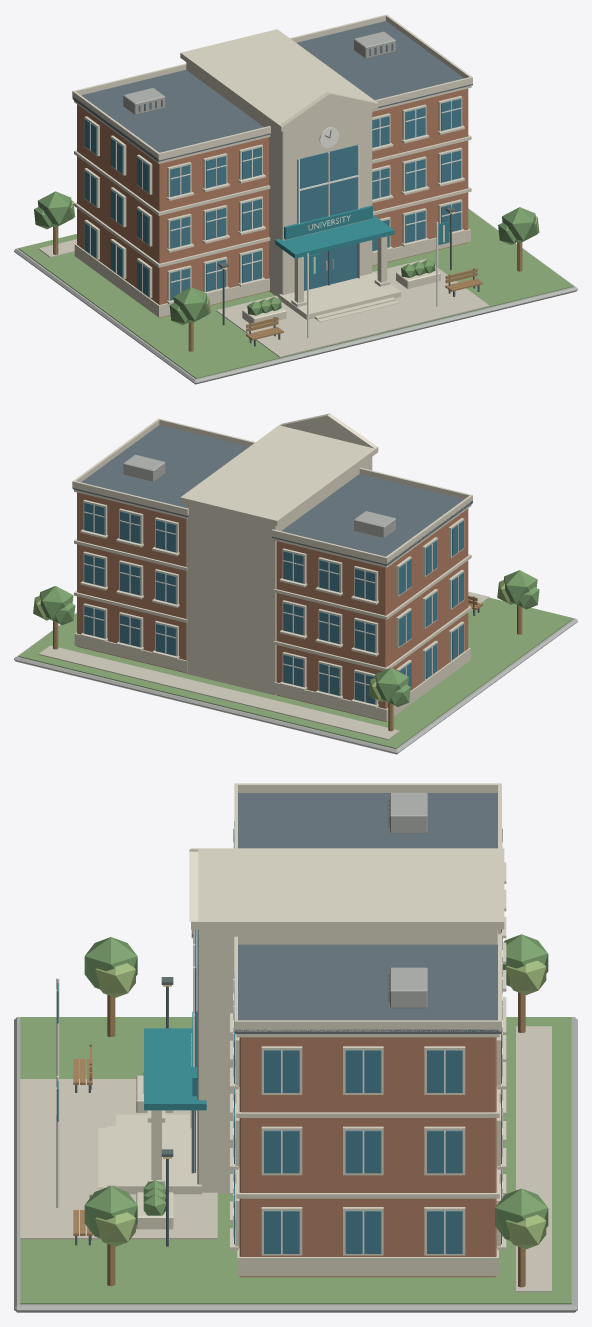
The model's file is University.fbx.
3 views of the same model, one above another, from view 1: azimuth 30°, elevation 25°; view 2: azimuth 150°, elevation 25°; view 3: azimuth 270°, elevation 25° (orthographic). The views are drawn at different scales.
Parts seen in each view (by area): view 1: Campus Lawn, Academic Wing, Central Top Cornice, Central Entrance Pavilion, Wing Roof, Entrance Plaza, Academic Wing.001, Wing Roof.001, Central Upper Glass, Campus Plot, Entrance Landing, Entrance Canopy (+36 smaller); view 2: Central Entrance Pavilion, Academic Wing, Campus Lawn, Central Top Cornice, Academic Wing.001, Wing Roof, Wing Roof.001, Rear Walk, Campus Plot, Wing Stone Plinth, Wing Stone Plinth.001, Entrance Pediment (+34 smaller); view 3: Campus Lawn, Academic Wing.001, Central Top Cornice, Wing Roof.001, Entrance Plaza, Central Entrance Pavilion, Wing Roof, Campus Plot, Rear Walk, Wing Stone Plinth.001, Entrance Landing, Entrance Canopy (+27 smaller).
Boxes of the visible parts, bbox=[...] form: Campus Lawn: bbox=[18, 209, 573, 378]; Academic Wing: bbox=[77, 104, 268, 317]; Central Top Cornice: bbox=[180, 29, 378, 131]; Central Entrance Pavilion: bbox=[186, 62, 372, 297]; Wing Roof: bbox=[72, 70, 270, 161]; Entrance Plaza: bbox=[216, 259, 489, 357]; Academic Wing.001: bbox=[372, 88, 468, 265]; Wing Roof.001: bbox=[296, 21, 472, 109]; Central Upper Glass: bbox=[297, 144, 358, 223]; Campus Plot: bbox=[14, 208, 577, 384]; Entrance Landing: bbox=[279, 271, 400, 319]; Entrance Canopy: bbox=[275, 215, 394, 258]; Central Entrance Pavilion: bbox=[186, 457, 372, 695]; Academic Wing: bbox=[276, 508, 468, 721]; Campus Lawn: bbox=[18, 597, 573, 748]; Central Top Cornice: bbox=[180, 423, 378, 525]; Academic Wing.001: bbox=[77, 492, 186, 672]; Wing Roof: bbox=[272, 474, 472, 565]; Wing Roof.001: bbox=[72, 425, 248, 517]; Rear Walk: bbox=[38, 645, 399, 739]; Campus Plot: bbox=[14, 612, 577, 754]; Wing Stone Plinth: bbox=[274, 647, 470, 721]; Wing Stone Plinth.001: bbox=[74, 632, 187, 672]; Entrance Pediment: bbox=[280, 413, 377, 448]; Campus Lawn: bbox=[20, 1017, 571, 1304]; Academic Wing.001: bbox=[239, 1037, 496, 1277]; Central Top Cornice: bbox=[191, 848, 504, 929]; Wing Roof.001: bbox=[235, 944, 501, 1033]; Entrance Plaza: bbox=[20, 1079, 217, 1239]; Central Entrance Pavilion: bbox=[197, 929, 497, 1193]; Wing Roof: bbox=[238, 793, 497, 848]; Campus Plot: bbox=[14, 1017, 577, 1312]; Rear Walk: bbox=[516, 1026, 551, 1292]; Wing Stone Plinth.001: bbox=[237, 1247, 498, 1276]; Entrance Landing: bbox=[116, 1114, 201, 1194]; Entrance Canopy: bbox=[144, 1028, 206, 1110].
Bounding box in the file's own units: 2200 × 1115 × 1800.
